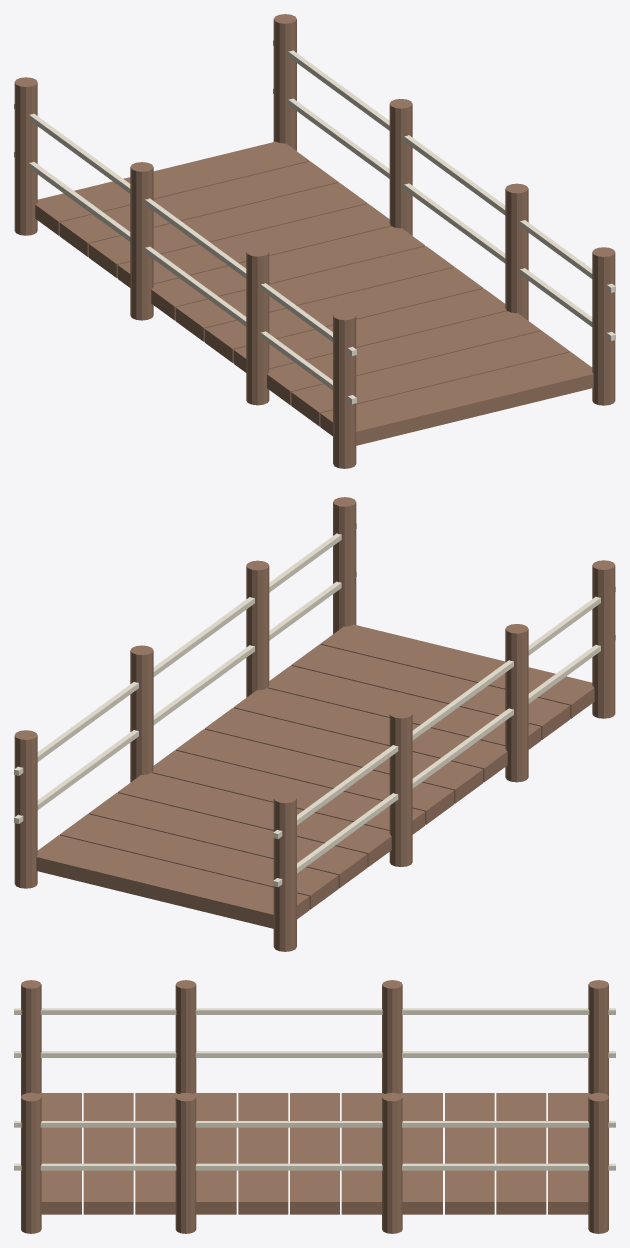
File: passerelle_cotiere.glb
3 renders of one model, top to bottom at view 1: azimuth 30°, elevation 25°; view 2: azimuth 150°, elevation 25°; view 3: azimuth 270°, elevation 25°, orthographic. The views are drawn at different scales.
Visible parts, largest first — view 1: static_wood, static_ivory; view 2: static_wood, static_ivory; view 3: static_wood, static_ivory.
Boxes of the visible parts, box(x1,y1,x2,y2) form: static_wood: box(14, 14, 615, 468); static_ivory: box(14, 40, 615, 404); static_wood: box(14, 497, 615, 951); static_ivory: box(14, 523, 615, 887); static_wood: box(21, 980, 608, 1233); static_ivory: box(14, 1008, 615, 1170).
Size of the model in its own units: 3.34 by 1.7 by 7.
